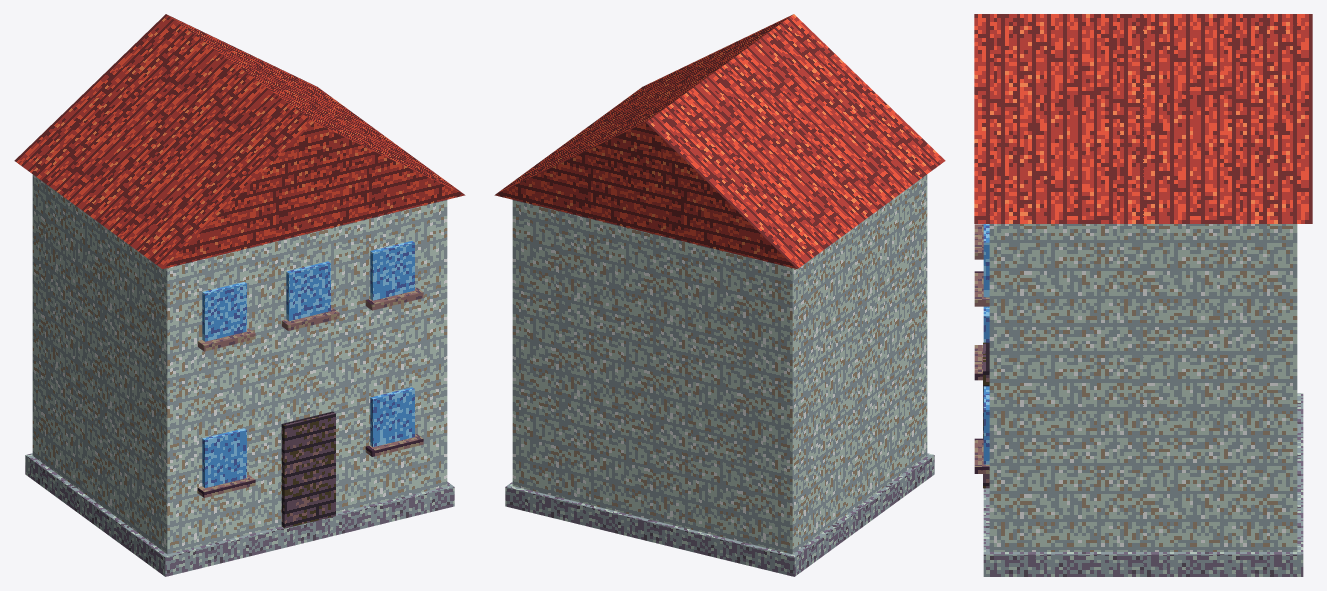
The model's file is casa_2.glb.
The picture shows the model from 3 angles, left to right: view 1: azimuth 30°, elevation 25°; view 2: azimuth 150°, elevation 25°; view 3: azimuth 270°, elevation 25°; orthographic projection. The views are drawn at different scales.
Parts seen in each view (by area): view 1: casa_2; view 2: casa_2; view 3: casa_2.
Boxes of the visible parts, box(x1,y1,x2,y2) form: casa_2: box(14, 14, 465, 576); casa_2: box(494, 14, 945, 576); casa_2: box(974, 14, 1312, 576).
Bounding box in the file's own units: 6.5 × 8.65 × 5.5.
Materials: 6 (6 with a texture image).
